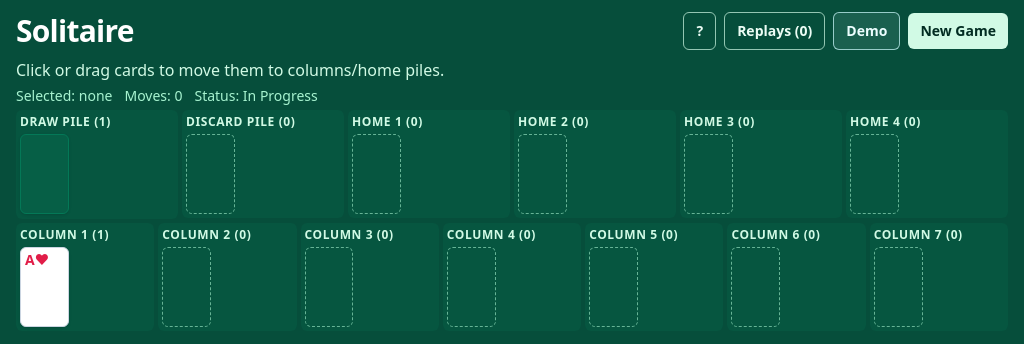
App click-to-move interactions › moves a face-up card to foundation on double-click when legal
Double-click the button "A♥" at point(44, 287), box [20, 247, 69, 327]
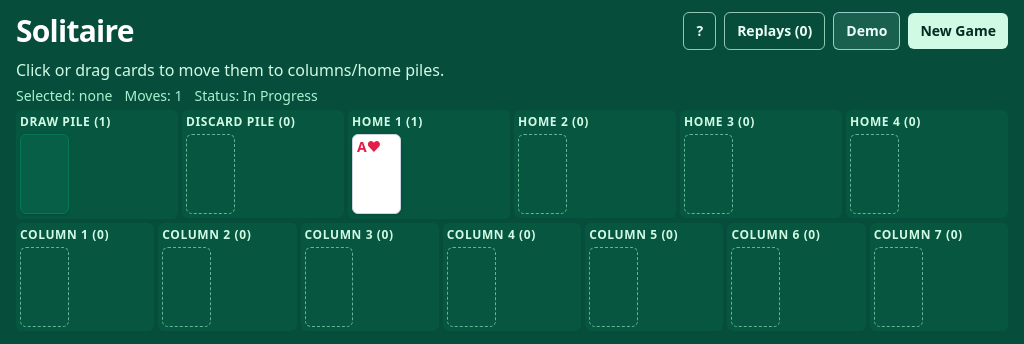
Expected: the text "Column 1 (0)" is shown, [20, 226, 109, 243]
Expected: the text "Home 1 (1)" is shown, [352, 113, 423, 130]
Expected: the text "Moves: 1" is shown, [124, 86, 182, 106]
